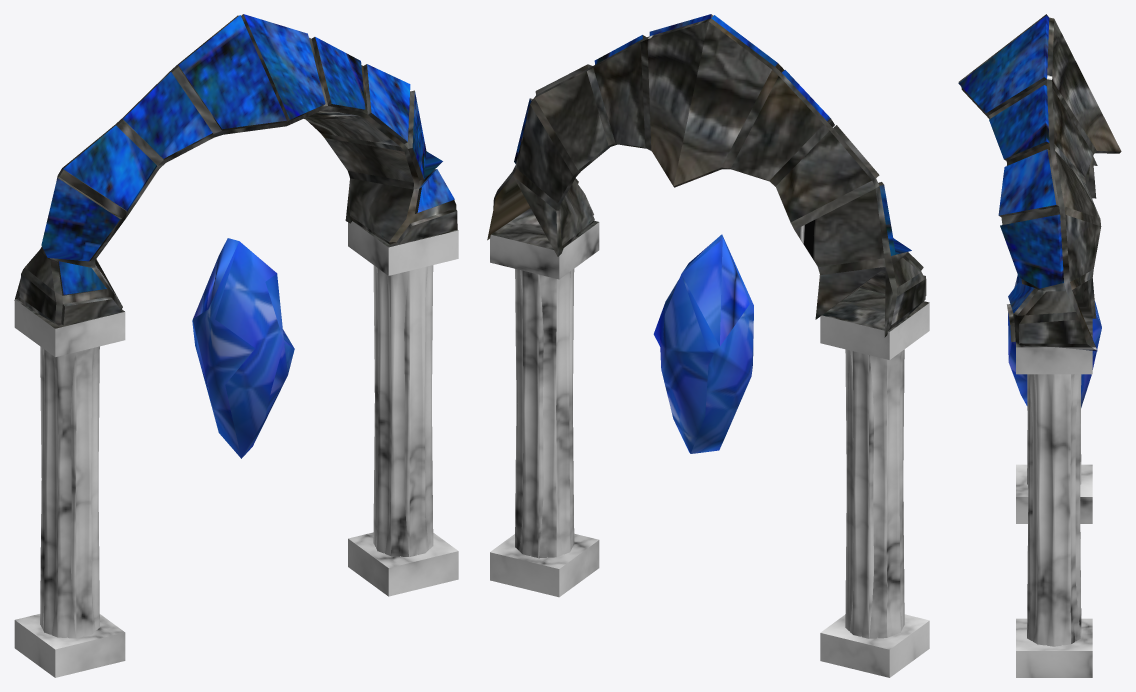
File: archGem.obj
The picture shows the model from 3 angles, left to right: view 1: azimuth 30°, elevation 25°; view 2: azimuth 150°, elevation 25°; view 3: azimuth 270°, elevation 25°; orthographic projection. The views are drawn at different scales.
Visible parts, largest first — view 1: polySurface4; view 2: polySurface4; view 3: polySurface4.
Boxes of the visible parts, left/top/right/bottom form: polySurface4: left=14, top=14, right=458, bottom=677; polySurface4: left=487, top=14, right=929, bottom=677; polySurface4: left=958, top=14, right=1121, bottom=677.
Size of the model in its own units: 9.23 by 13.06 by 3.39.
